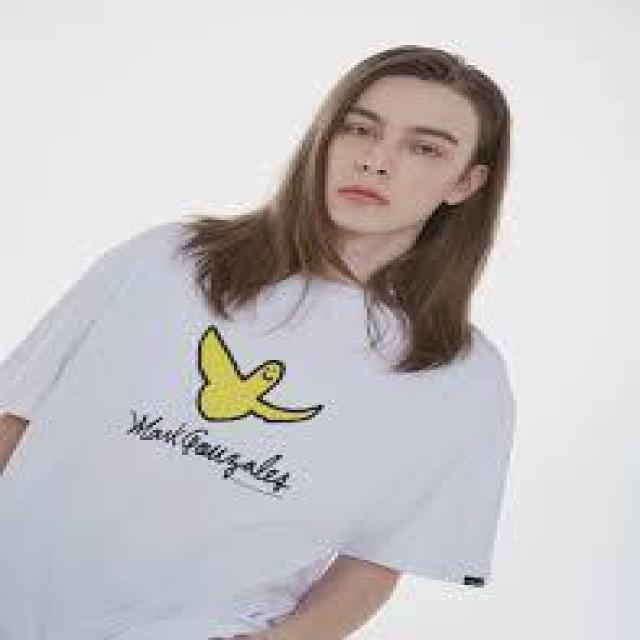Tshirt: (3, 215, 520, 640)
